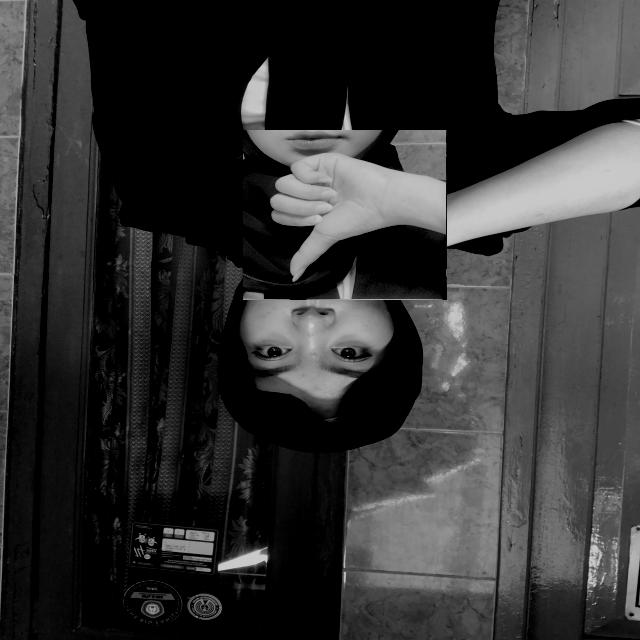sedih: (243, 130, 447, 300)
